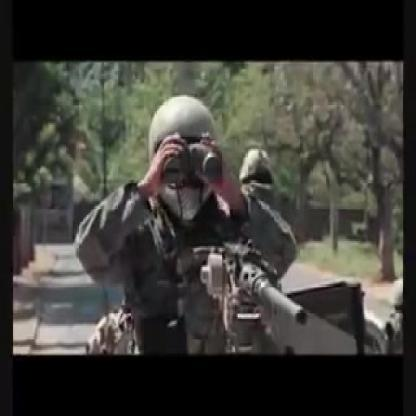Gun: (185, 210, 319, 371)
